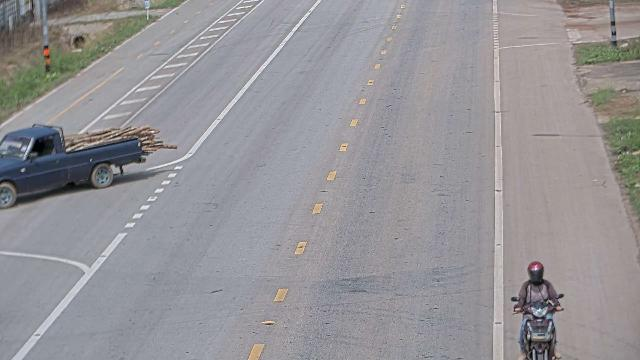motorcycle: (513, 275, 566, 360)
pickup-truck: (0, 122, 146, 209)
